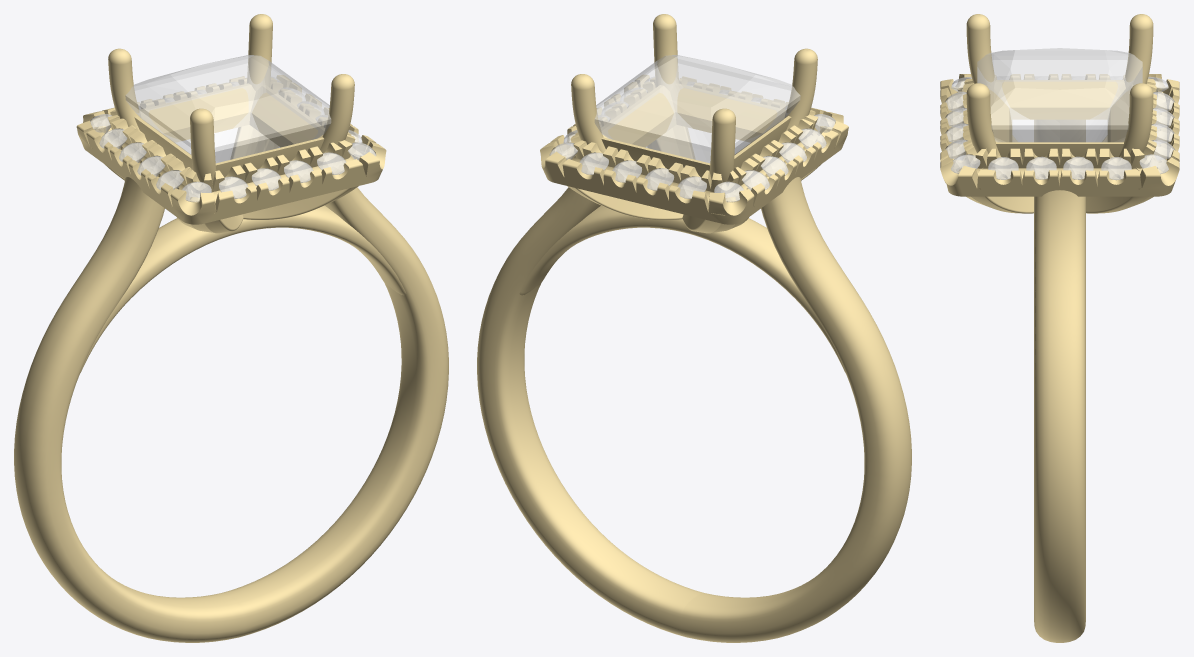
3 views of the same model, side by side, from view 1: azimuth 30°, elevation 25°; view 2: azimuth 150°, elevation 25°; view 3: azimuth 270°, elevation 25° (orthographic).
Visible parts, largest first — view 1: NNObj_32, NNObj_33, NNObj_29, NNObj_0, NNObj_34, NNObj_30, NNObj_31, NNObj_37, NNObj_38, NNObj_35, NNObj_36, NNObj_21 (+2 smaller); view 2: NNObj_32, NNObj_33, NNObj_29, NNObj_0, NNObj_34, NNObj_30, NNObj_31, NNObj_36, NNObj_35, NNObj_38, NNObj_37, NNObj_23 (+2 smaller); view 3: NNObj_33, NNObj_29, NNObj_0, NNObj_34, NNObj_36, NNObj_37, NNObj_35, NNObj_38, NNObj_32, NNObj_23, NNObj_21, NNObj_5 (+5 smaller).
Part boxes in pixels (x1,y1,x2,y2): NNObj_32: (14,177,244,642); NNObj_33: (222,187,448,636); NNObj_29: (76,75,386,224); NNObj_0: (125,55,331,163); NNObj_34: (134,83,324,177); NNObj_30: (79,218,243,373); NNObj_31: (242,205,406,295); NNObj_37: (108,48,140,130); NNObj_38: (247,14,272,90); NNObj_35: (320,74,354,153); NNObj_36: (190,108,216,183); NNObj_21: (242,154,361,219); NNObj_32: (681,177,911,642); NNObj_33: (477,187,703,636); NNObj_29: (540,75,848,224); NNObj_0: (594,55,800,163); NNObj_34: (601,83,791,177); NNObj_30: (682,218,846,373); NNObj_31: (519,205,683,295); NNObj_36: (785,48,817,130); NNObj_35: (653,14,678,90); NNObj_38: (571,74,605,153); NNObj_37: (709,108,735,182); NNObj_23: (564,154,683,219); NNObj_33: (1034,190,1085,642); NNObj_29: (940,74,1179,196); NNObj_0: (977,48,1142,142); NNObj_34: (986,80,1133,158); NNObj_36: (966,14,995,87); NNObj_37: (1124,14,1153,87); NNObj_35: (966,83,1000,156); NNObj_38: (1119,83,1153,156); NNObj_32: (1034,120,1085,141); NNObj_23: (1086,167,1163,213); NNObj_21: (956,167,1033,213); NNObj_5: (1101,157,1131,180).
Bounding box in the file's own units: 0.0207 × 0.0267 × 0.0102.
